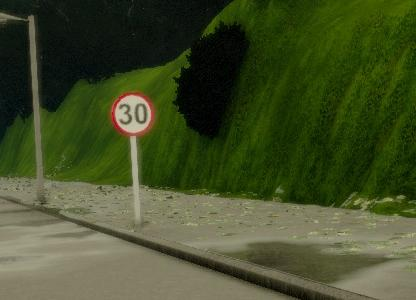Speed_30: (110, 93, 154, 135)
